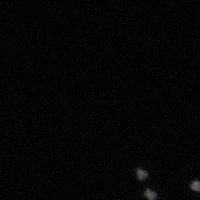chromosome: (135, 167, 147, 181), (143, 188, 156, 200), (190, 180, 200, 194)
